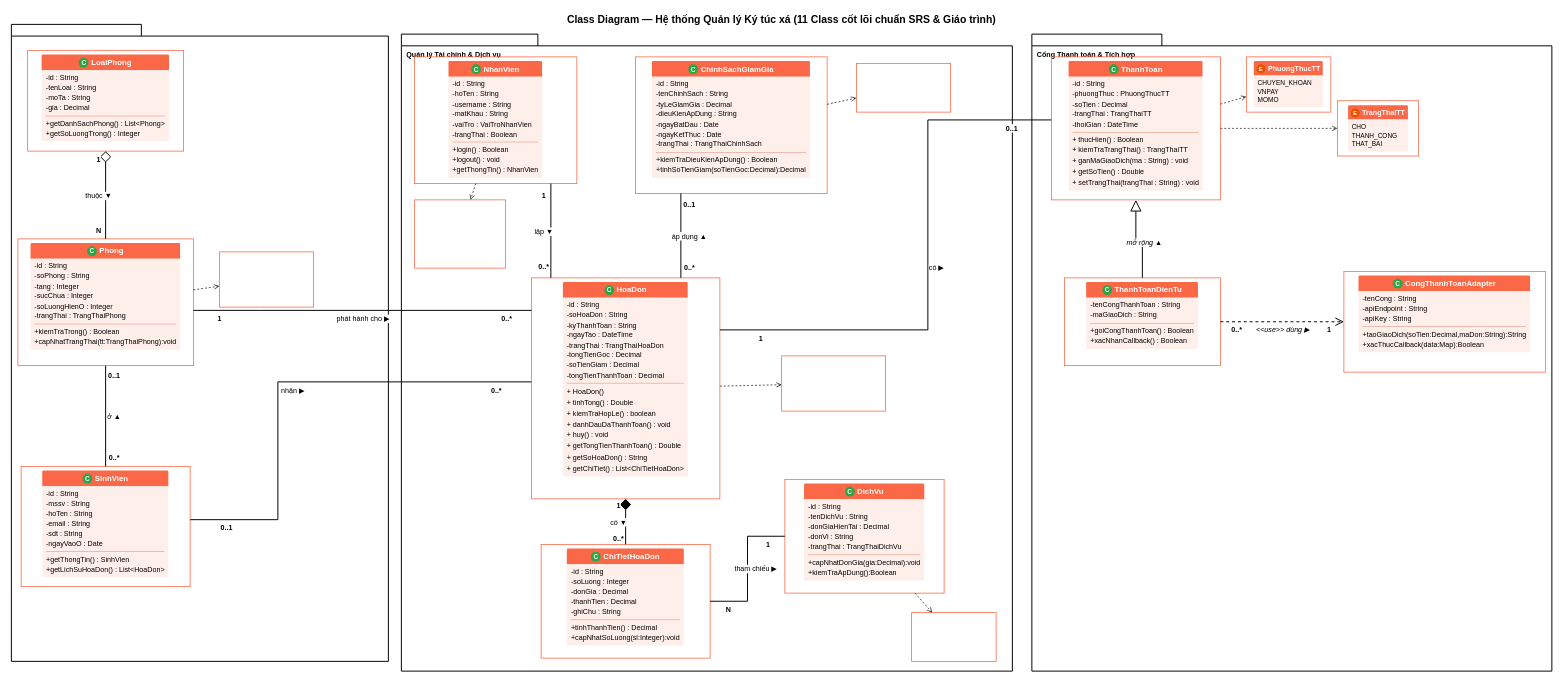
Some shapes in this 1564 by 683 pixel diagram are drawn without their labels. Each missing label, with the centre of its shape:
"E TrangThaiChinhSach DANG_AP_DUNG HET_HAN" belongs at pixel 903 87.
"E TrangThaiDichVu DANG_AP_DUNG NGUNG_AP_DUNG" belongs at pixel 953 636.
"E TrangThaiHoaDon CHUA_THANH_TOAN DA_THANH_TOAN QUA_HAN" belongs at pixel 833 383.
"E TrangThaiPhong TRONG DA_CO_NGUOI DANG_SUA" belongs at pixel 266 279.
"E VaiTroNhanVien ADMIN KE_TOAN KY_THUAT BAO_VE BAO_TRI" belongs at pixel 459 233.
